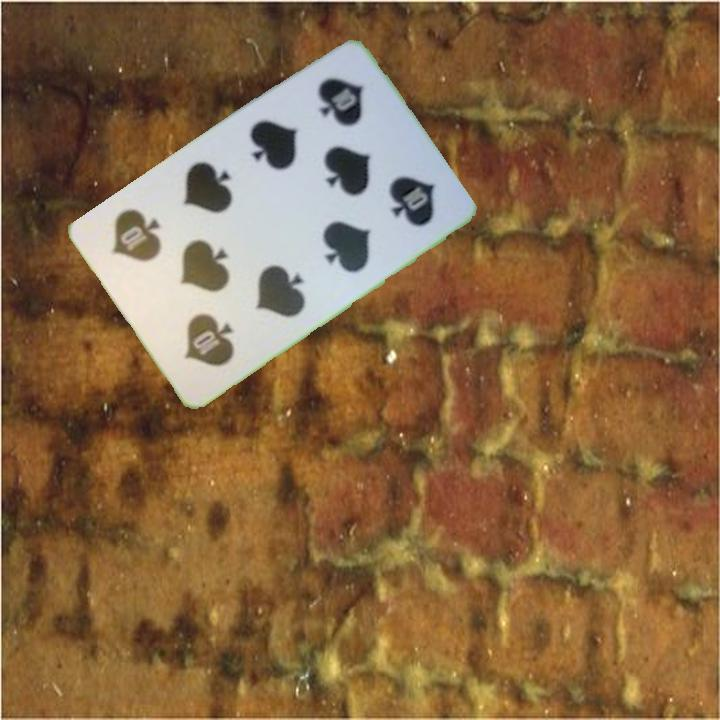s_10.png: (281, 52, 406, 181), (139, 263, 264, 391)
